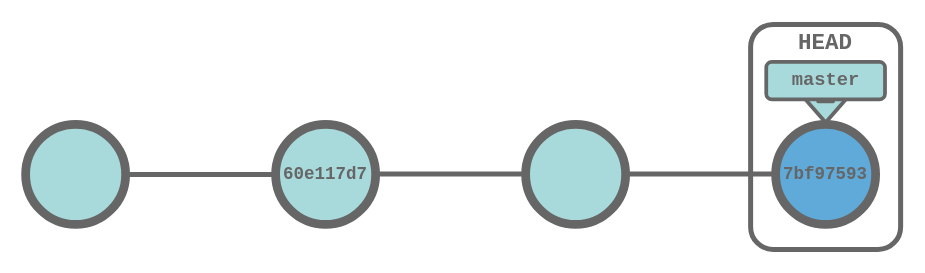
Some shapes in this 925 by 273 pixel diagram are drawn without their labels. The centre of each missing label's shape, as x and y in pixels:
"300da3b1" goes at point (75, 173).
"9d109cfe" goes at point (575, 173).
